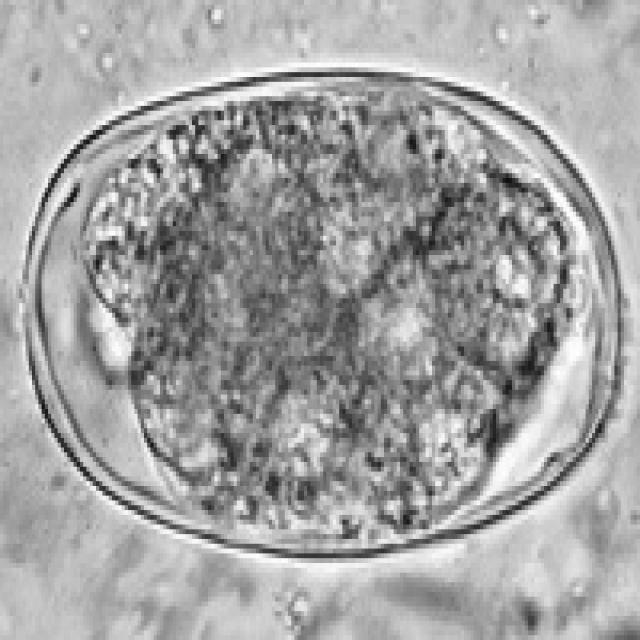Ancylostoma Spp: (11, 65, 632, 565)
